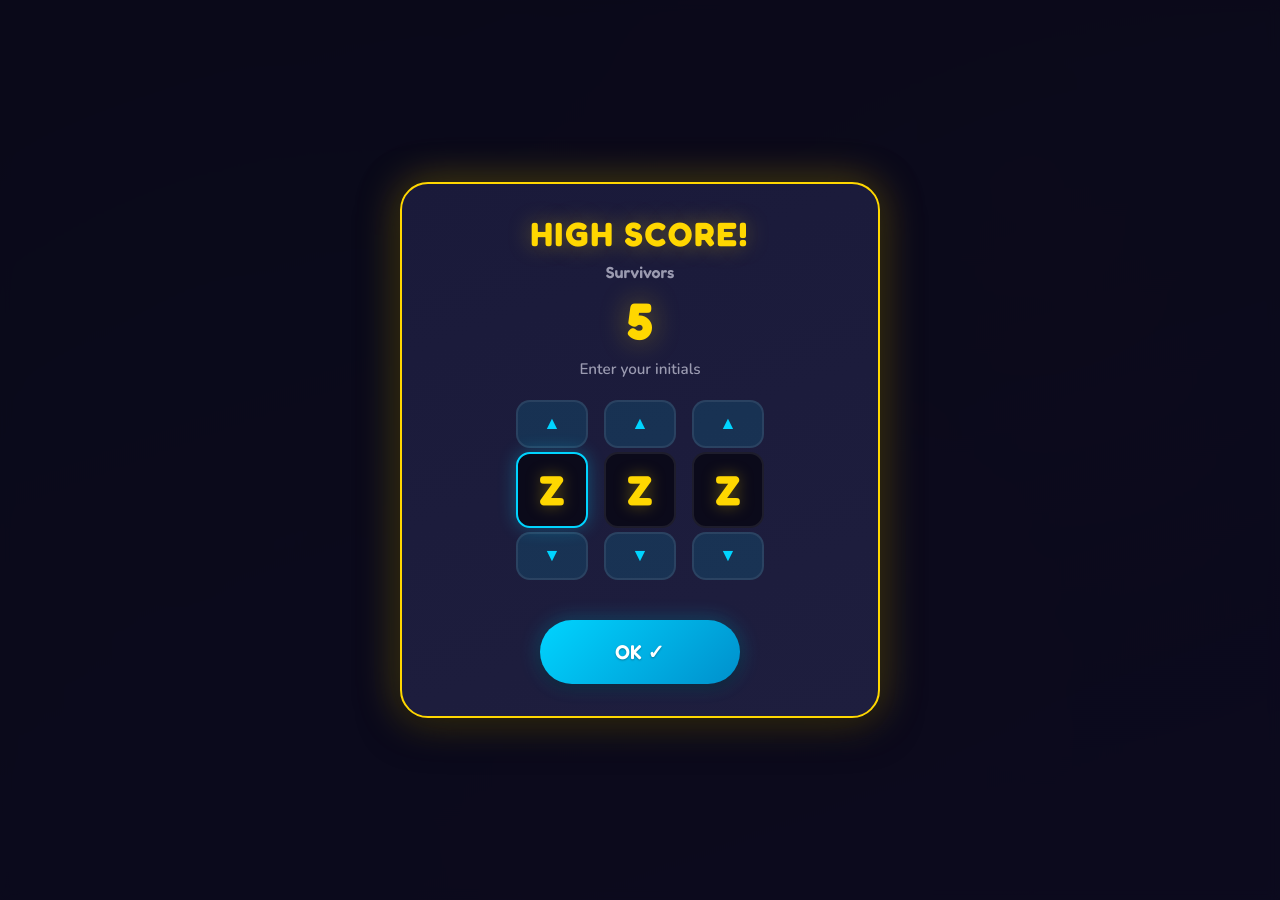
Test: HighScoreFlow › cycles letters with the arrow buttons and wraps Z to A
Expected: the button named "Slot 1, letter Z" is shown, [516,452,588,528]
Click the button named "Next letter, slot 1" at point(552, 424), box [516,400,588,448]
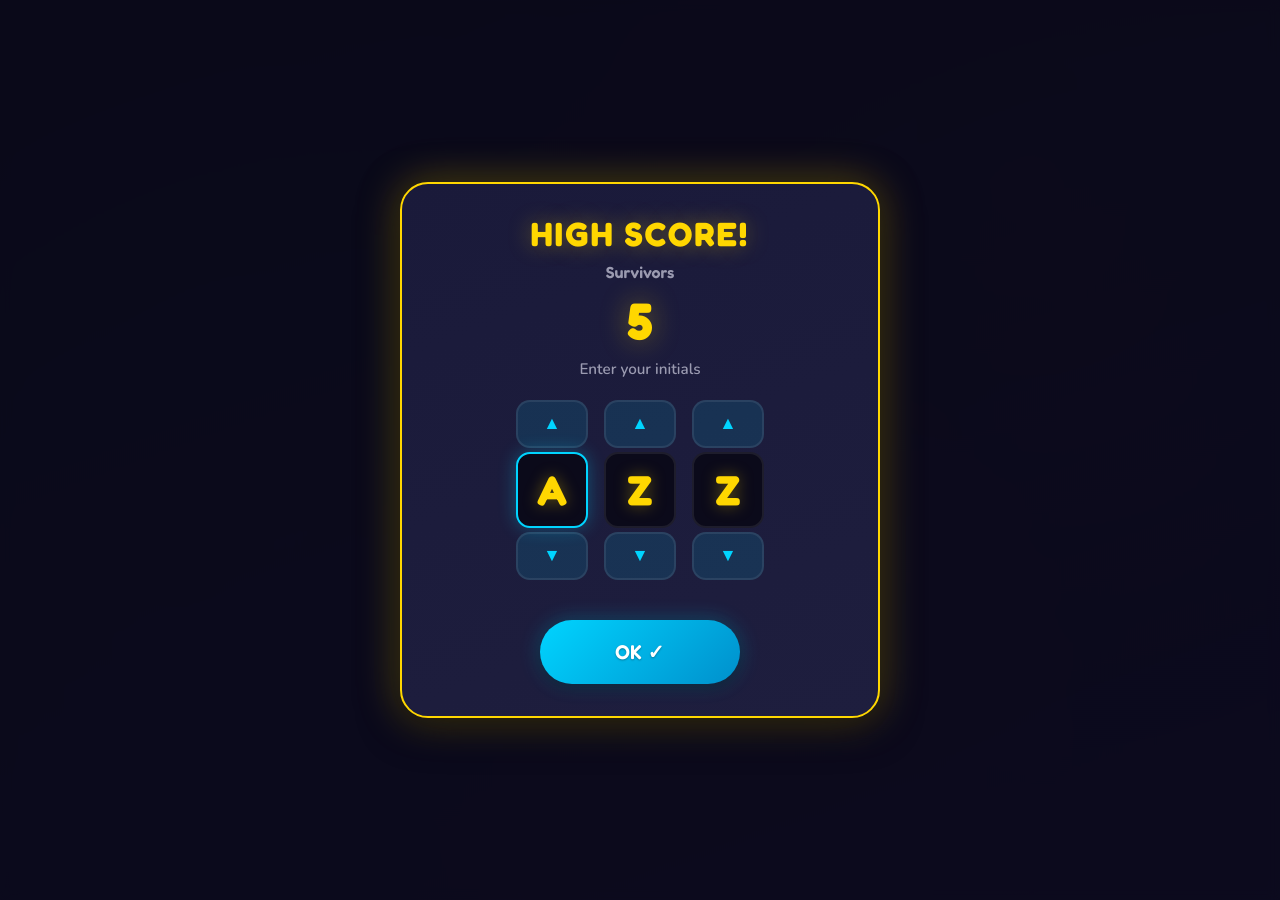
Expected: the button named "Slot 1, letter A" is shown, [516,452,588,528]
Click the button named "Previous letter, slot 1" at point(552, 556), box [516,532,588,580]
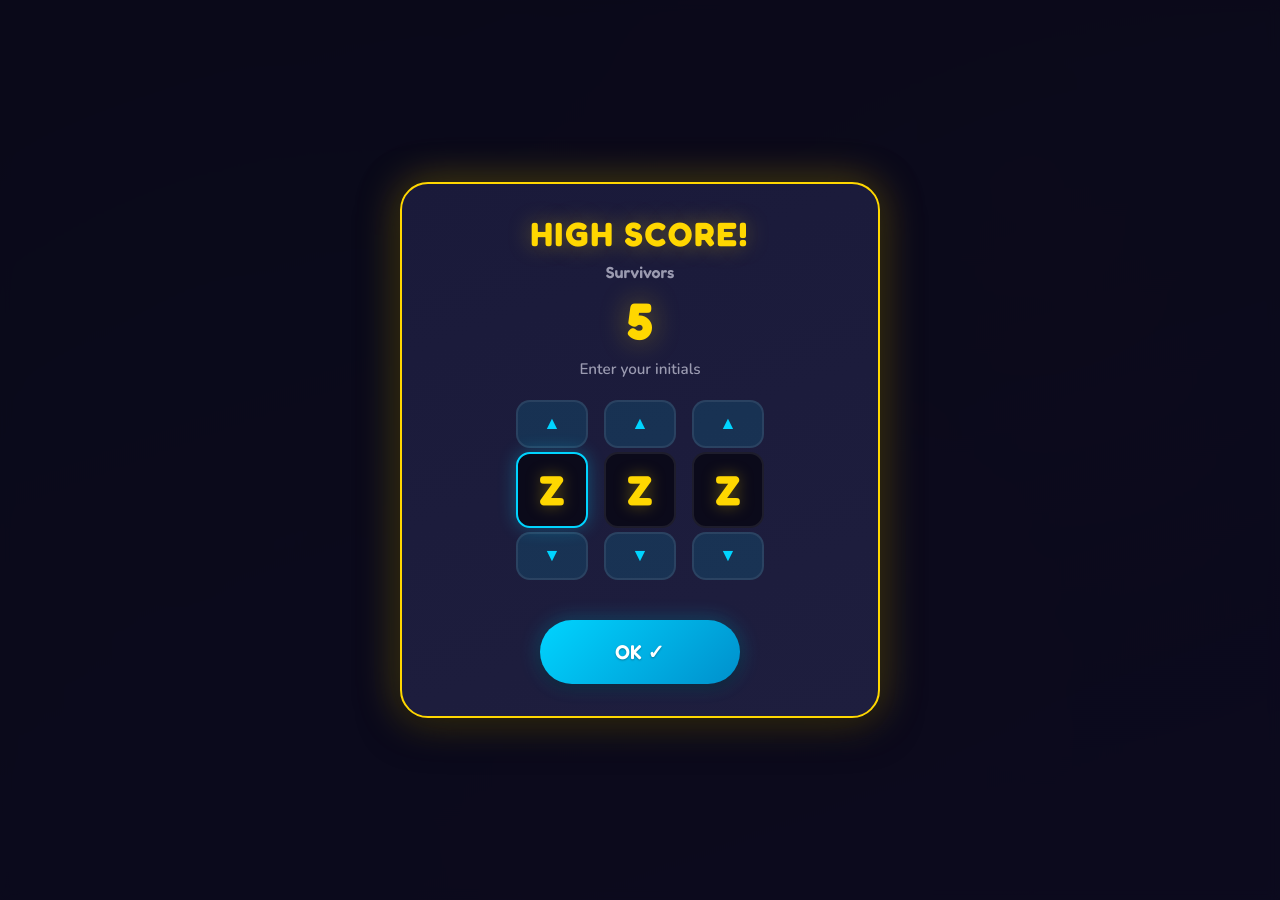
Expected: the button named "Slot 1, letter Z" is shown, [516,452,588,528]
